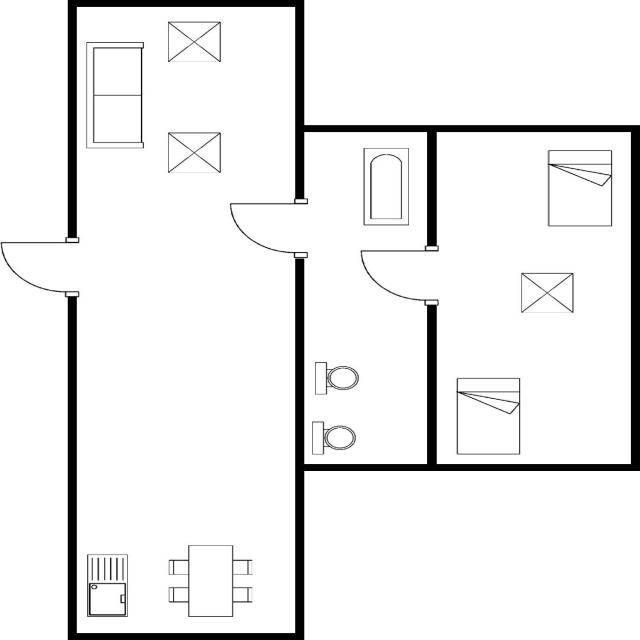bed: (542, 146, 618, 230), (451, 373, 525, 458)
coffee_table: (162, 17, 226, 64), (163, 128, 225, 174), (517, 270, 577, 314)
dining_table: (162, 540, 258, 621)
large_sink: (308, 358, 362, 400), (308, 416, 359, 459)
large_sofa: (81, 38, 150, 154)
sink: (82, 550, 132, 620)
tub: (358, 144, 413, 228)
